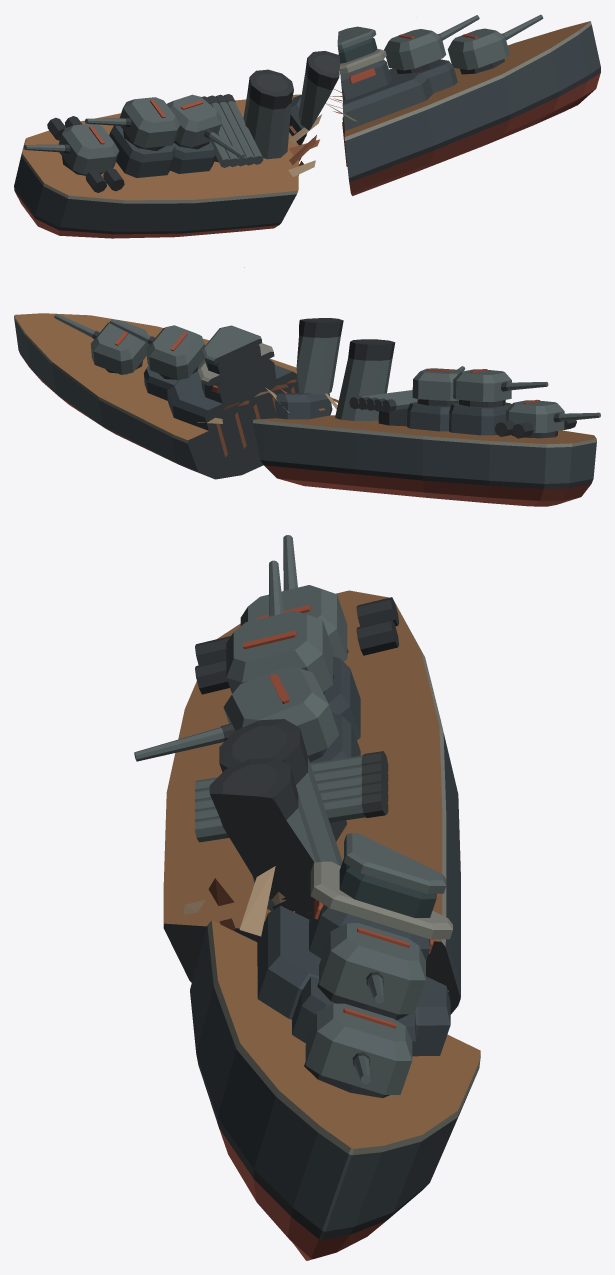
File: uss_kidd_dd661_destroyed.glb
3 views of the same model, one above another, from view 1: azimuth 30°, elevation 25°; view 2: azimuth 150°, elevation 25°; view 3: azimuth 270°, elevation 25° (orthographic). The views are drawn at different scales.
Visible parts, largest first — view 1: uss_kidd_dd661_destroyed; view 2: uss_kidd_dd661_destroyed; view 3: uss_kidd_dd661_destroyed.
Boxes of the visible parts, x1,y1,x2,y2 form: uss_kidd_dd661_destroyed: (14, 14, 600, 238); uss_kidd_dd661_destroyed: (14, 267, 600, 506); uss_kidd_dd661_destroyed: (134, 535, 480, 1260).
Bounding box in the file's own units: 1.83 × 0.5432 × 0.4809.
